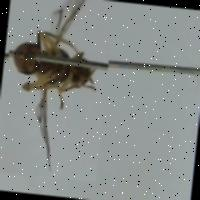Oriental-fruit-fly: (0, 0, 113, 181)
